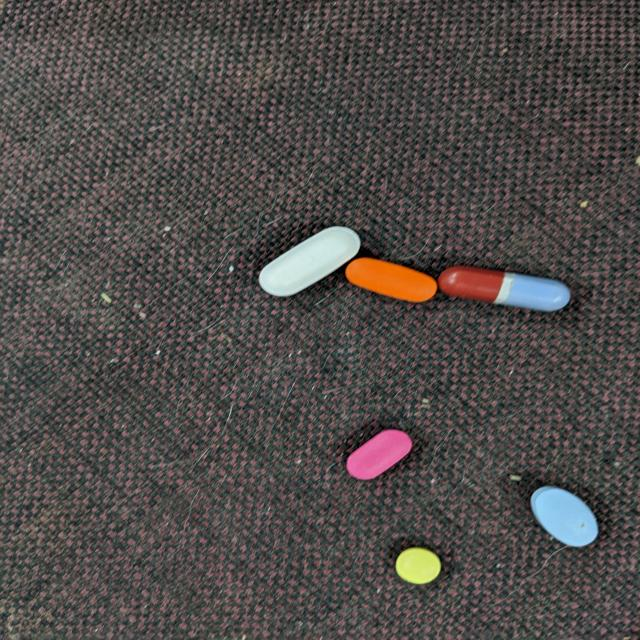non-organic waste: (257, 226, 362, 298), (437, 265, 572, 313), (528, 485, 600, 548), (344, 256, 438, 303), (344, 428, 414, 481), (394, 547, 442, 585)
